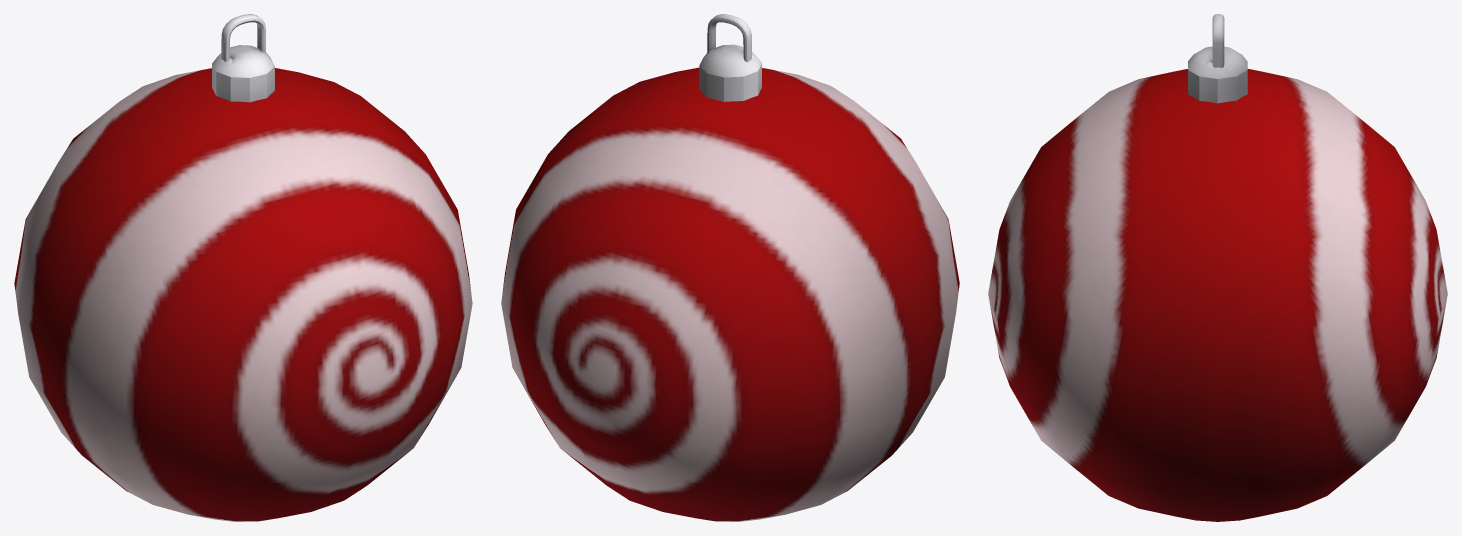
3 renders of one model, left to right at view 1: azimuth 30°, elevation 25°; view 2: azimuth 150°, elevation 25°; view 3: azimuth 270°, elevation 25°, orthographic.
Visible parts, largest first — view 1: V5_Christmas Collection17_V5_Christmas Collection_0; view 2: V5_Christmas Collection17_V5_Christmas Collection_0; view 3: V5_Christmas Collection17_V5_Christmas Collection_0.
Part boxes in pixels (bbox=[...]): V5_Christmas Collection17_V5_Christmas Collection_0: bbox=[14, 14, 472, 521]; V5_Christmas Collection17_V5_Christmas Collection_0: bbox=[501, 14, 959, 521]; V5_Christmas Collection17_V5_Christmas Collection_0: bbox=[988, 14, 1447, 521].
Bounding box in the file's own units: 33.8 × 39.34 × 33.8.
Materials: 1 (1 with a texture image).
